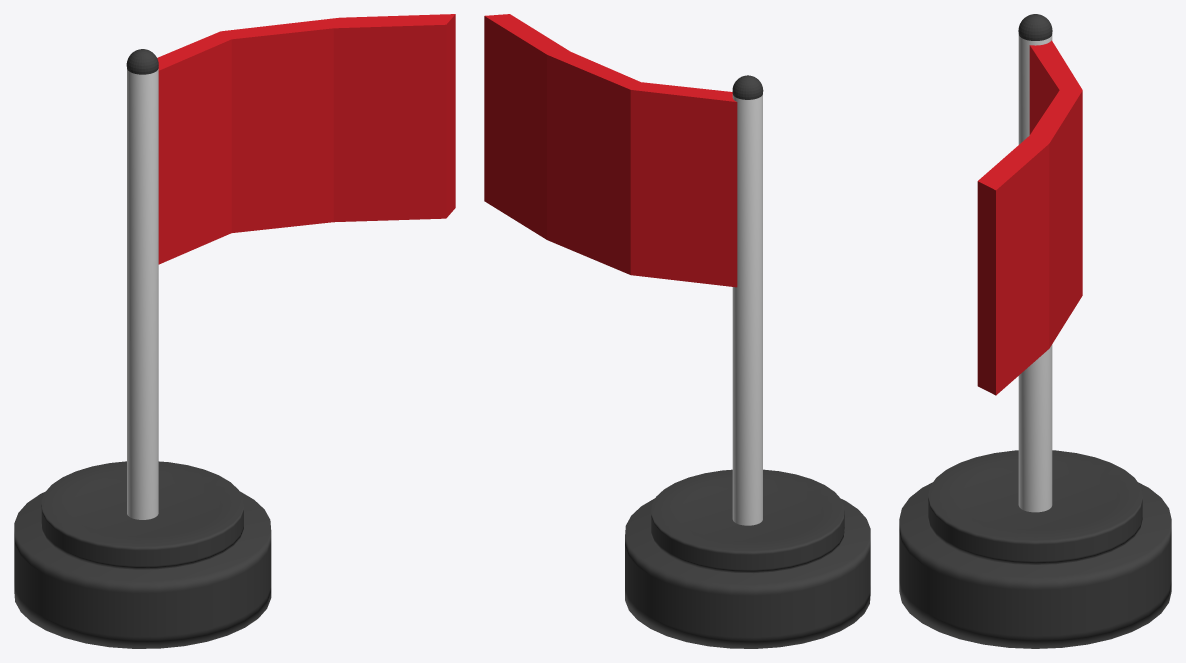
File: low-poly_3d_small_flag.glb
3 renders of one model, left to right at view 1: azimuth 30°, elevation 25°; view 2: azimuth 150°, elevation 25°; view 3: azimuth 270°, elevation 25°, orthographic. The views are drawn at different scales.
Visible parts, largest first — view 1: Plane, Cylinder, Cylinder.001, Cylinder.002, Sphere; view 2: Plane, Cylinder, Cylinder.001, Cylinder.002, Sphere; view 3: Plane, Cylinder, Cylinder.001, Cylinder.002, Sphere.
Part boxes in pixels (x1,y1,x2,y2): Plane: [157, 14, 455, 264]; Cylinder: [14, 491, 271, 648]; Cylinder.001: [41, 461, 243, 569]; Cylinder.002: [127, 69, 158, 519]; Sphere: [126, 49, 158, 74]; Plane: [484, 14, 737, 287]; Cylinder: [625, 498, 870, 648]; Cylinder.001: [651, 469, 844, 573]; Cylinder.002: [732, 94, 762, 525]; Sphere: [732, 75, 763, 99]; Plane: [977, 40, 1082, 395]; Cylinder: [899, 482, 1171, 648]; Cylinder.001: [928, 450, 1142, 564]; Cylinder.002: [1018, 34, 1052, 512]; Sphere: [1018, 14, 1052, 40].
Bounding box in the file's own units: 3.64 × 4.66 × 2.
